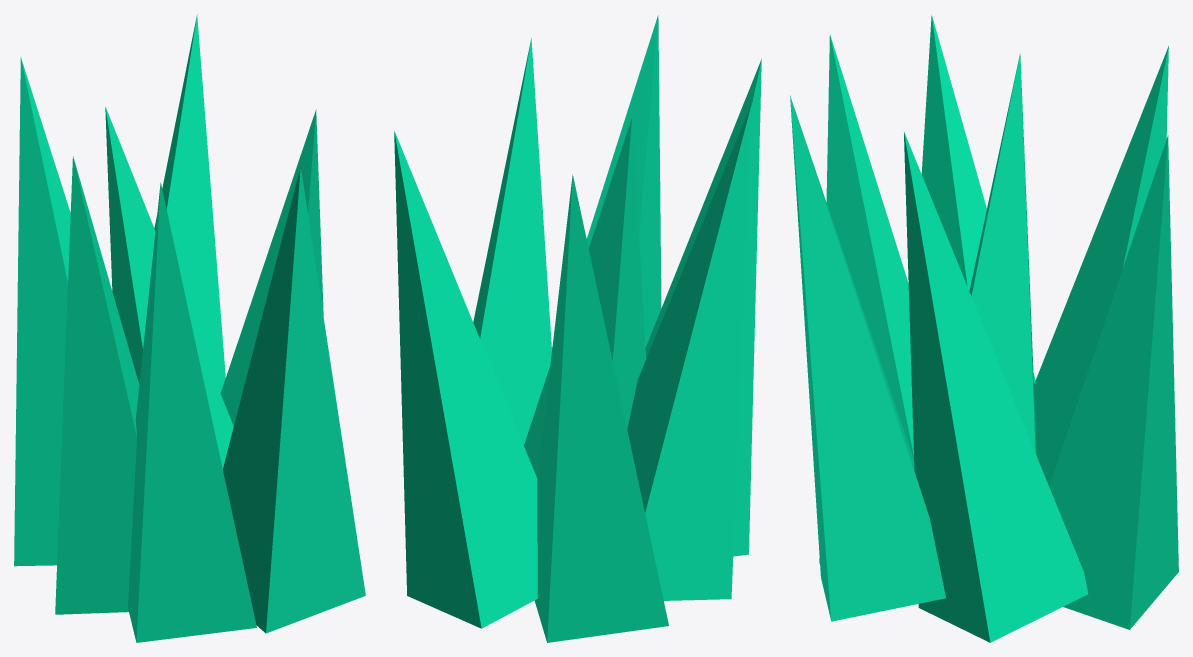
File: GrassBundle2.fbx
3 views of the same model, side by side, from view 1: azimuth 30°, elevation 25°; view 2: azimuth 150°, elevation 25°; view 3: azimuth 270°, elevation 25° (orthographic). The views are drawn at different scales.
Visible parts, largest first — view 1: Cube.022; view 2: Cube.022; view 3: Cube.022.
Boxes of the visible parts, x1=… form: Cube.022: x1=14, y1=14, x2=365, y2=642; Cube.022: x1=394, y1=15, x2=761, y2=642; Cube.022: x1=790, y1=15, x2=1178, y2=642.
Bounding box in the file's own units: 1.28 × 2.02 × 1.45.
